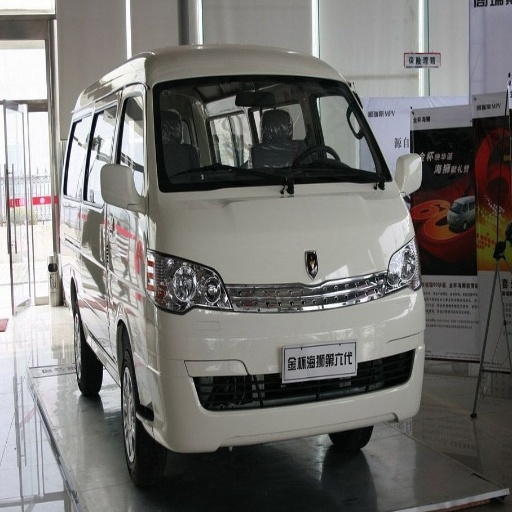front_bumper: (133, 270, 419, 451)
front_left_light: (363, 240, 419, 300)
front_right_door: (84, 89, 148, 259)
front_right_light: (143, 252, 239, 313)
hood: (157, 183, 405, 285)
